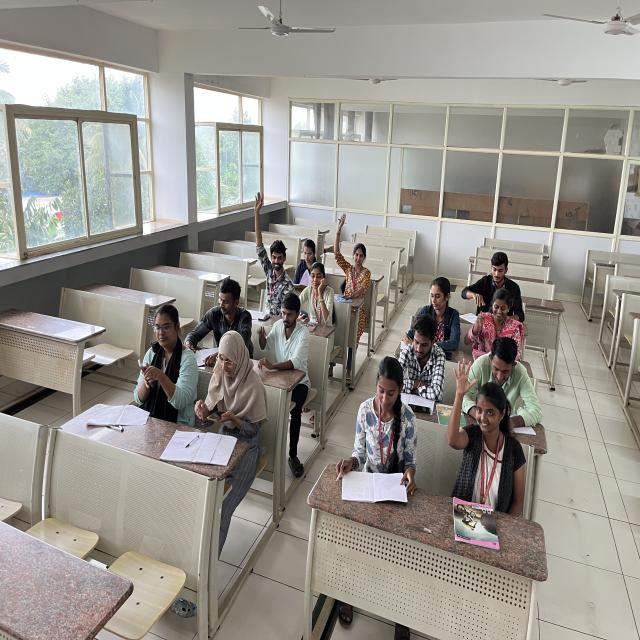Hand Rising: (446, 356, 523, 518), (254, 190, 292, 306), (332, 212, 371, 289)
Reading: (346, 354, 417, 504), (408, 317, 445, 404), (291, 237, 320, 288)
Using Phone: (134, 305, 196, 412), (202, 331, 266, 432), (299, 260, 336, 325)
Writing: (183, 279, 250, 368), (400, 274, 461, 352)
